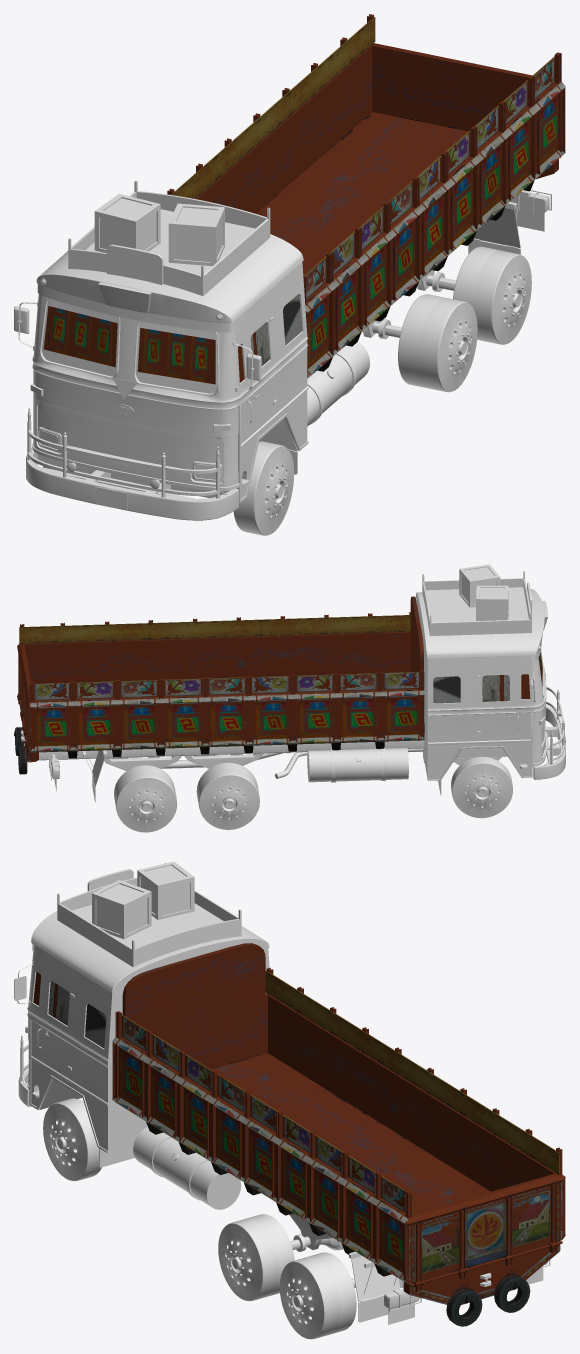
The model's file is Truck.fbx.
3 renders of one model, top to bottom at view 1: azimuth 30°, elevation 25°; view 2: azimuth 150°, elevation 25°; view 3: azimuth 270°, elevation 25°, orthographic. The views are drawn at different scales.
Visible parts, largest first — view 1: Object_5, Object_2, Object_6, Object_3; view 2: Object_2, Object_5, Object_6, Object_3; view 3: Object_2, Object_5, Object_6, Object_3.
Part boxes in pixels (x1,y1,x2,y2): Object_5: (14,180,551,520); Object_2: (167,14,565,378); Object_6: (43,246,531,535); Object_3: (43,294,301,384); Object_2: (14,596,424,774); Object_5: (21,564,565,802); Object_6: (111,754,512,832); Object_3: (433,653,542,703); Object_2: (112,943,565,1326); Object_5: (14,861,550,1324); Object_6: (43,1098,356,1339); Object_3: (33,972,106,1048).
Bounding box in the file's own units: 8571 × 3699 × 6927.
5 materials, 3 textured.
